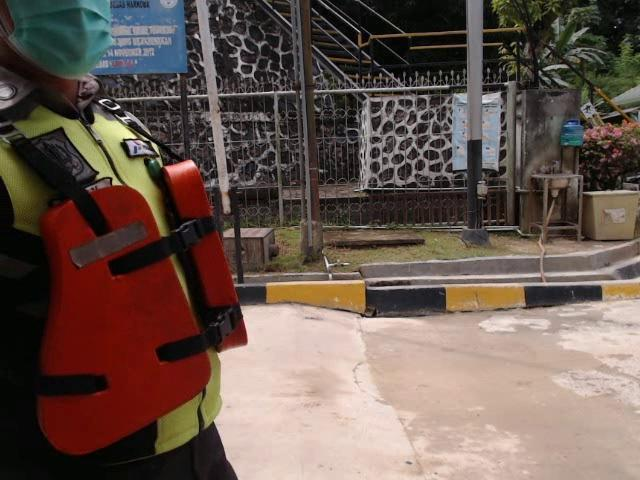vest: (11, 161, 254, 452)
